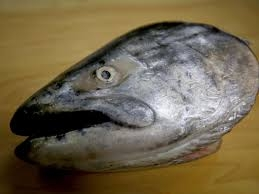kitchen_waste: (7, 21, 259, 170)
